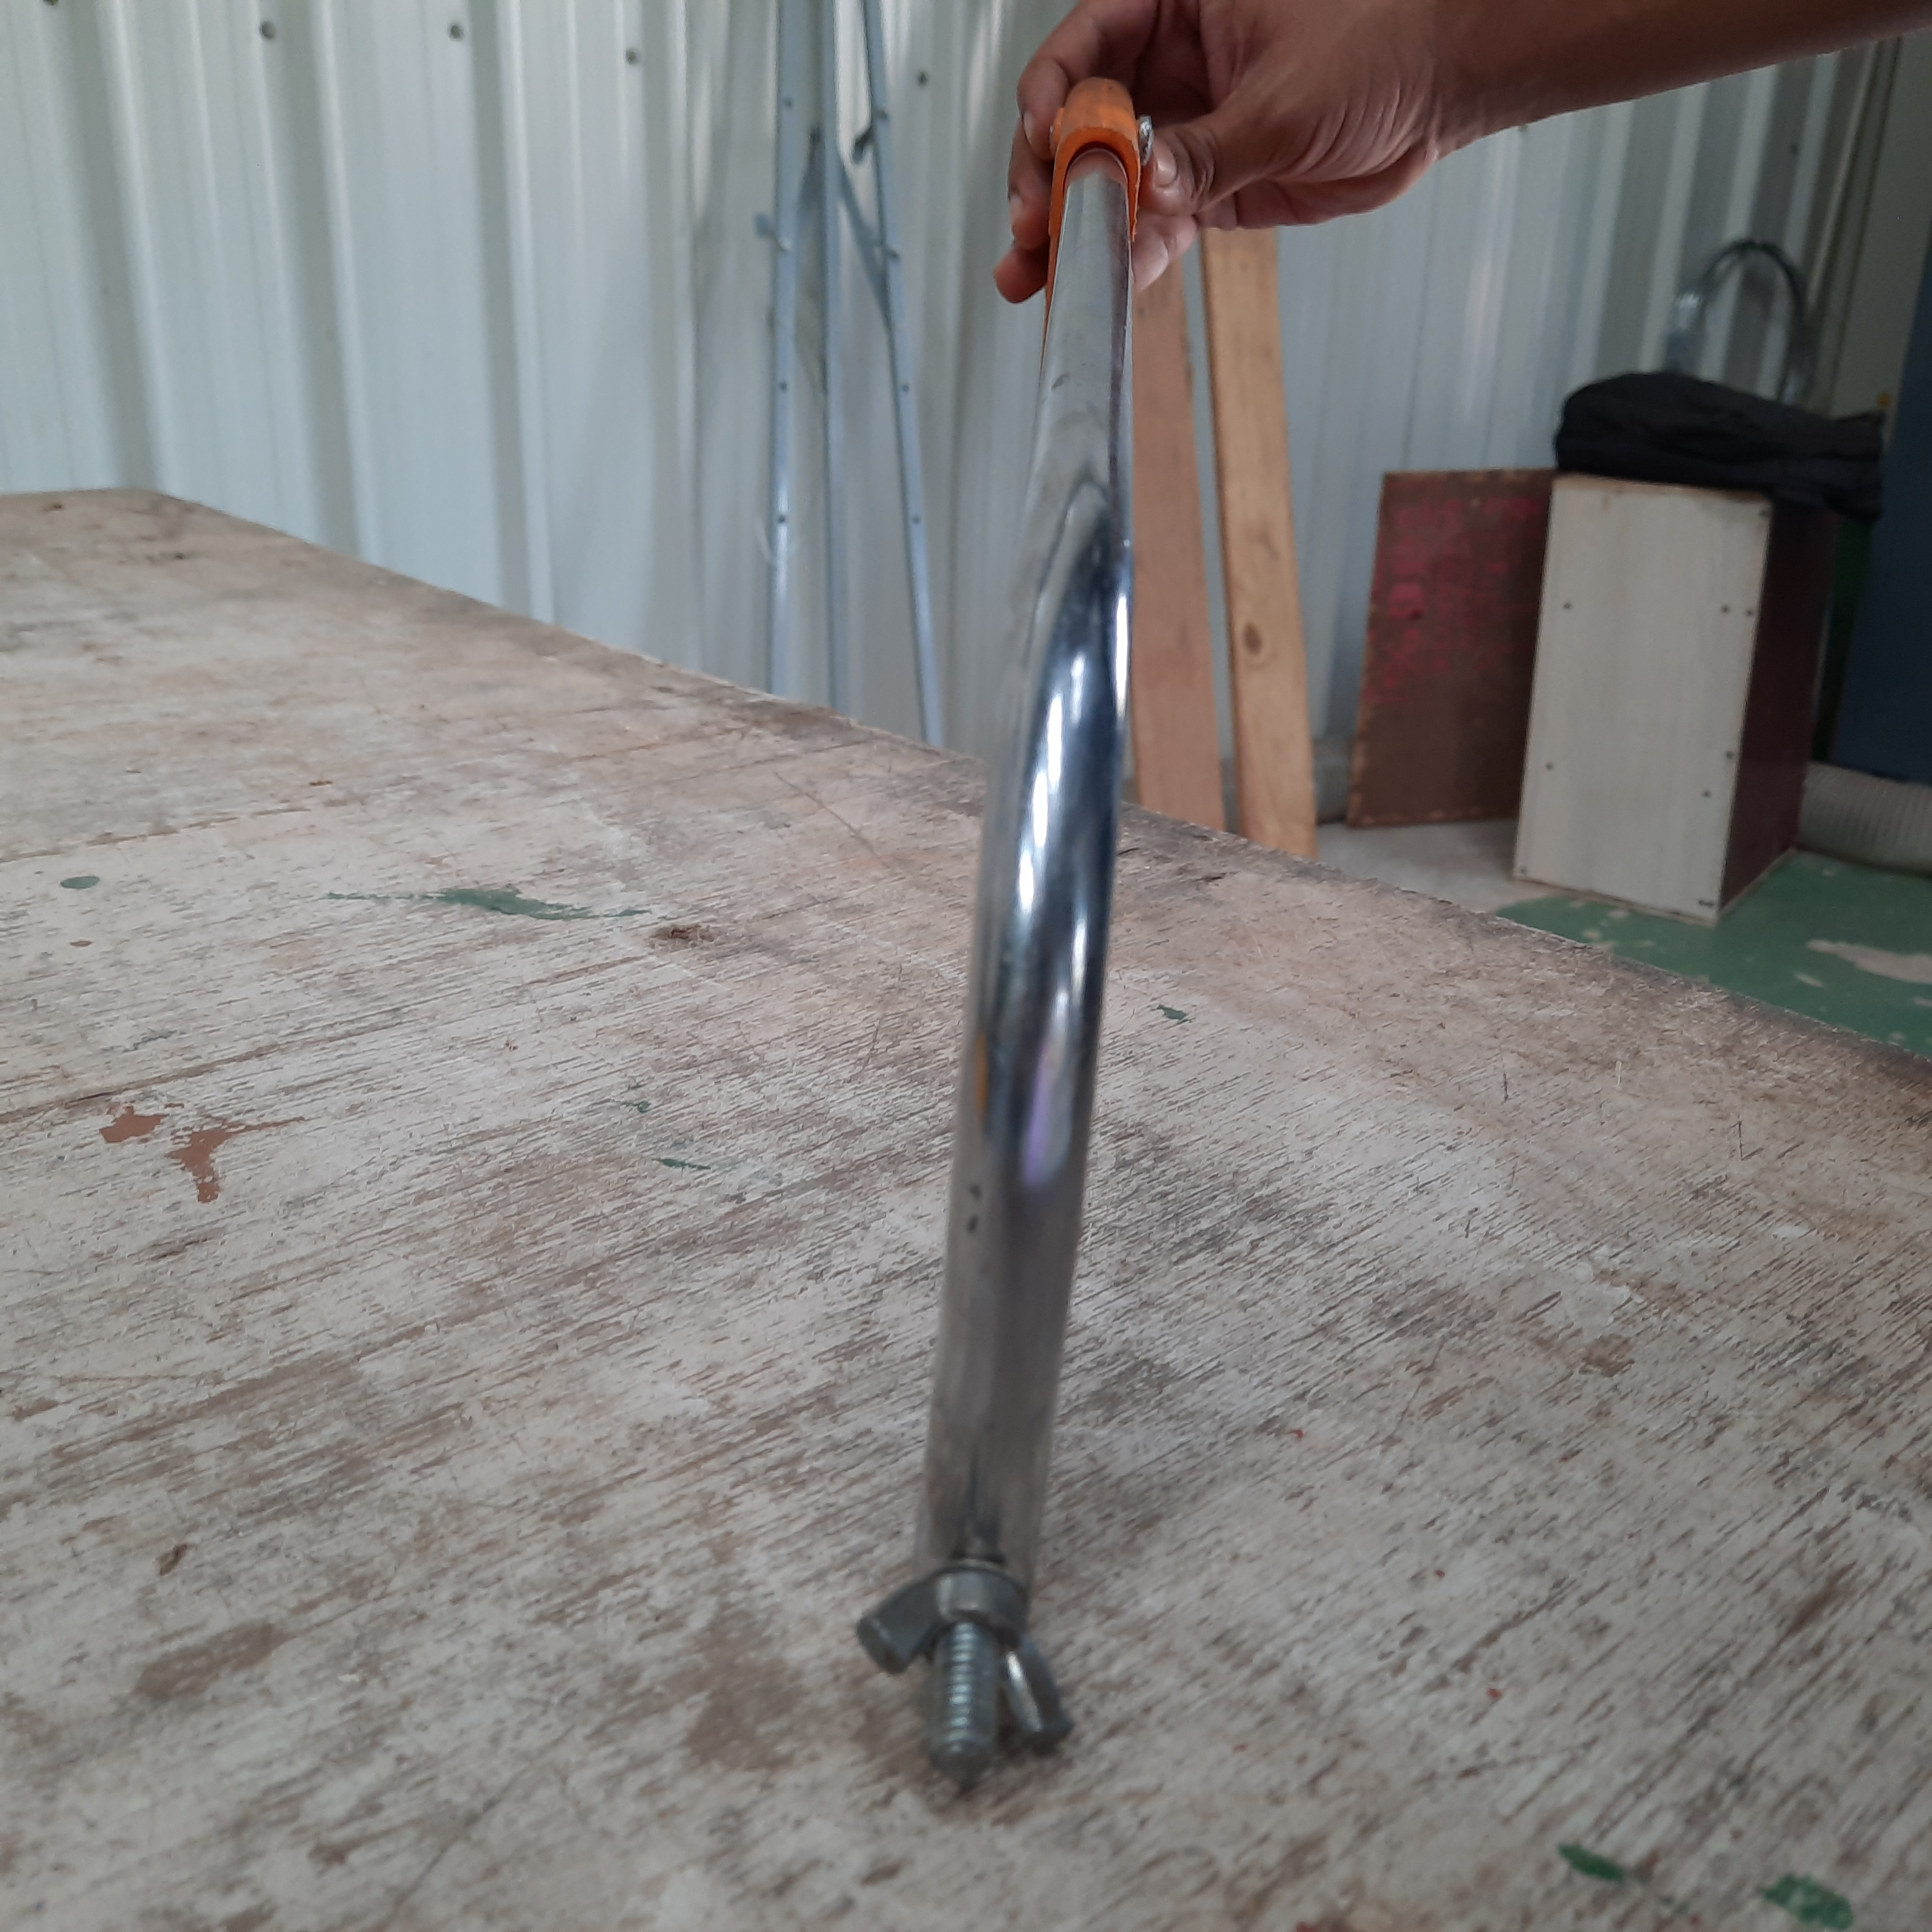Hexaframe: (821, 69, 1254, 1801)
